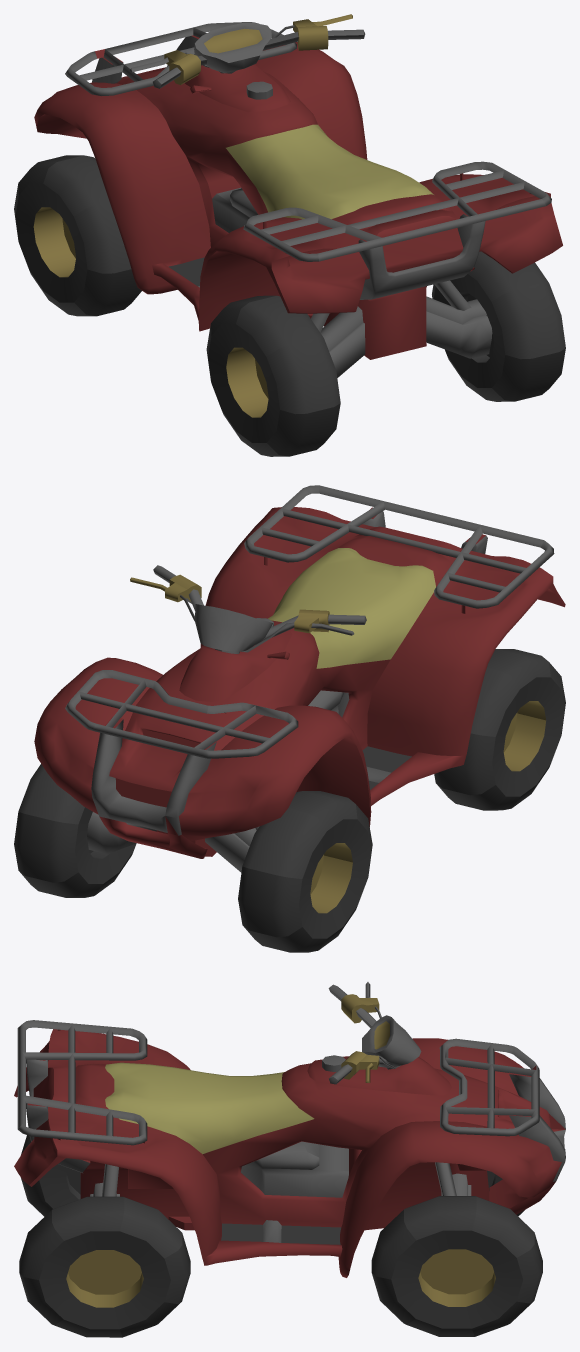
The model's file is atv1.fbx.
The picture shows the model from 3 angles, top to bottom: view 1: azimuth 30°, elevation 25°; view 2: azimuth 150°, elevation 25°; view 3: azimuth 270°, elevation 25°; orthographic projection. The views are drawn at different scales.
Visible parts, largest first — view 1: atv, atv teker1, atv teker2, atv teker4, atv direksiyon; view 2: atv, atv teker2, atv teker1, atv teker3, atv direksiyon; view 3: atv, atv teker4, atv teker3, atv direksiyon, atv teker1.
Part boxes in pixels (x1=…): atv: x1=34, y1=22, x2=562, y2=377; atv teker1: x1=206, y1=295, x2=340, y2=456; atv teker2: x1=14, y1=155, x2=141, y2=316; atv teker4: x1=432, y1=251, x2=565, y2=401; atv direksiyon: x1=130, y1=14, x2=365, y2=88; atv: x1=34, y1=485, x2=565, y2=872; atv teker2: x1=238, y1=791, x2=372, y2=952; atv teker1: x1=434, y1=649, x2=565, y2=810; atv teker3: x1=14, y1=764, x2=136, y2=897; atv direksiyon: x1=130, y1=565, x2=366, y2=653; atv: x1=14, y1=1020, x2=565, y2=1277; atv teker4: x1=19, y1=1196, x2=190, y2=1337; atv teker3: x1=371, y1=1196, x2=542, y2=1336; atv direksiyon: x1=328, y1=982, x2=421, y2=1084; atv teker1: x1=21, y1=1135, x2=80, y2=1216.
Size of the model in its own units: 145 by 135 by 267.
